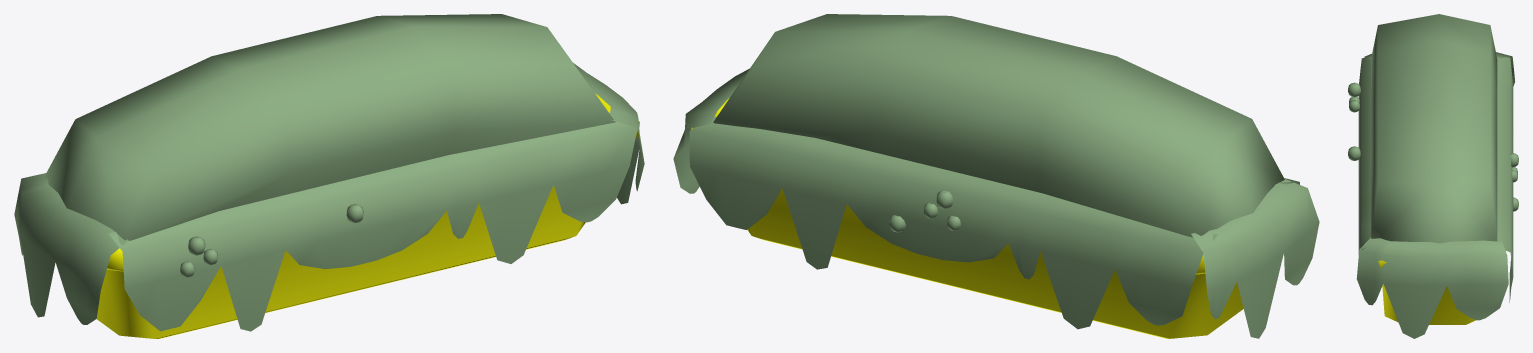
Rendered from Feeder_3.fbx.
3 views of the same model, side by side, from view 1: azimuth 30°, elevation 25°; view 2: azimuth 150°, elevation 25°; view 3: azimuth 270°, elevation 25° (orthographic). The views are drawn at different scales.
Visible parts, largest first — view 1: Feeder_3; view 2: Feeder_3; view 3: Feeder_3.
Part boxes in pixels (box(x1,y1,x2,y2)): Feeder_3: box(14, 14, 644, 338); Feeder_3: box(673, 14, 1319, 338); Feeder_3: box(1348, 14, 1518, 338).
Size of the model in its own units: 140 by 52 by 48.27.
